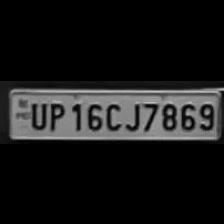1: (66, 98, 82, 130)
6: (82, 98, 104, 130), (178, 98, 196, 130)
7: (138, 99, 156, 131)
8: (158, 99, 176, 131)
9: (196, 98, 214, 130)
C: (102, 98, 122, 130)
J: (122, 98, 140, 130)
P: (46, 98, 64, 130)
U: (26, 100, 46, 128)
